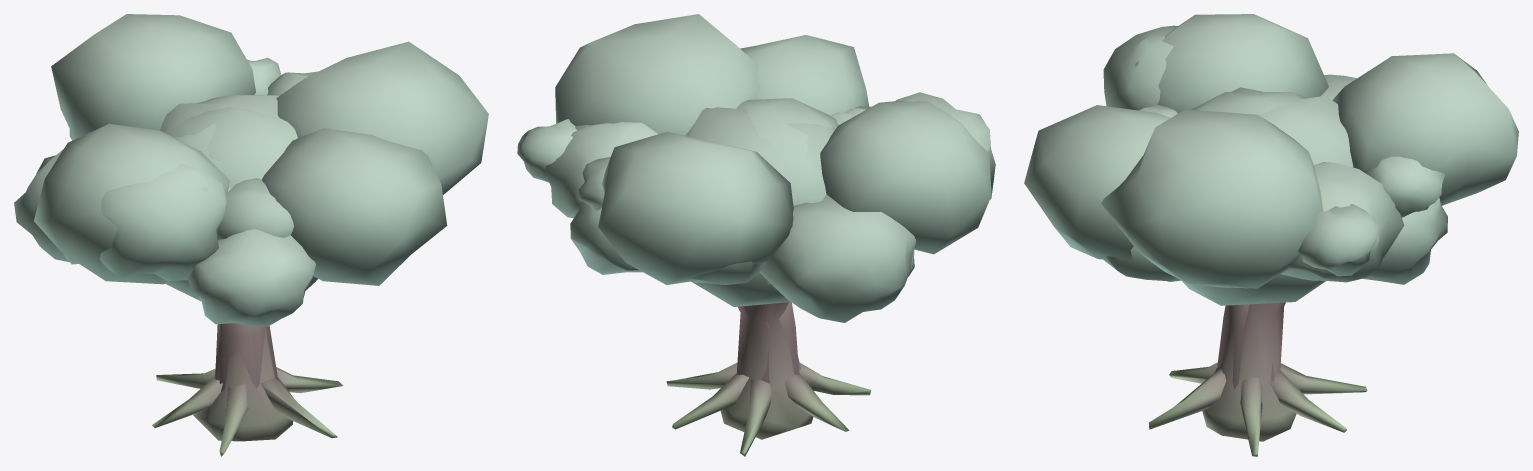
Rendered from ancient_oak.glb.
3 renders of one model, left to right at view 1: azimuth 30°, elevation 25°; view 2: azimuth 150°, elevation 25°; view 3: azimuth 270°, elevation 25°, orthographic. The views are drawn at different scales.
Parts seen in each view (by area): view 1: far, near; view 2: far, near; view 3: far, near.
Boxes of the visible parts, bbox=[...] form: far: bbox=[34, 14, 488, 391]; near: bbox=[14, 57, 342, 456]; far: bbox=[555, 14, 991, 383]; near: bbox=[517, 92, 995, 456]; far: bbox=[1024, 14, 1518, 389]; near: bbox=[1103, 25, 1447, 456].
Bounding box in the file's own units: 21.88 × 17.25 × 21.71.
